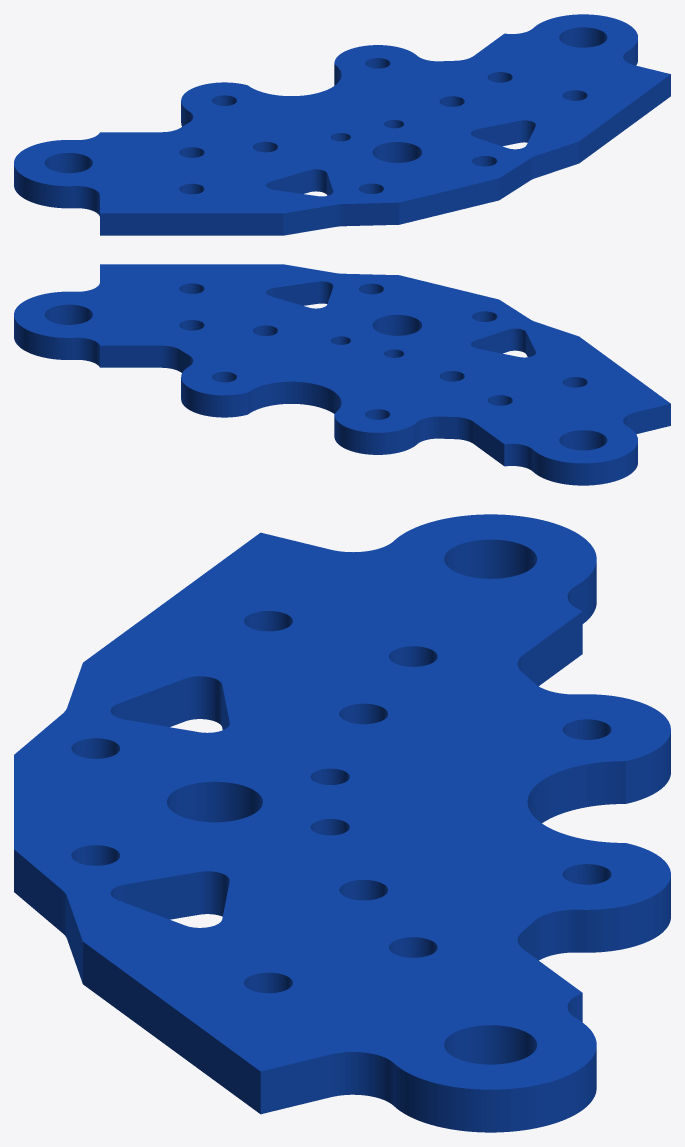
The model's file is 01_placa_cabeza.glb.
The picture shows the model from 3 angles, top to bottom: view 1: azimuth 30°, elevation 25°; view 2: azimuth 150°, elevation 25°; view 3: azimuth 270°, elevation 25°; orthographic projection. The views are drawn at different scales.
Visible parts, largest first — view 1: 01_placa_cabeza; view 2: 01_placa_cabeza; view 3: 01_placa_cabeza.
Boxes of the visible parts, left/top/right/bottom form: 01_placa_cabeza: left=14, top=14, right=670, bottom=235; 01_placa_cabeza: left=14, top=264, right=670, bottom=485; 01_placa_cabeza: left=14, top=514, right=670, bottom=1132.
Size of the model in its own units: 366 by 12.7 by 177.
